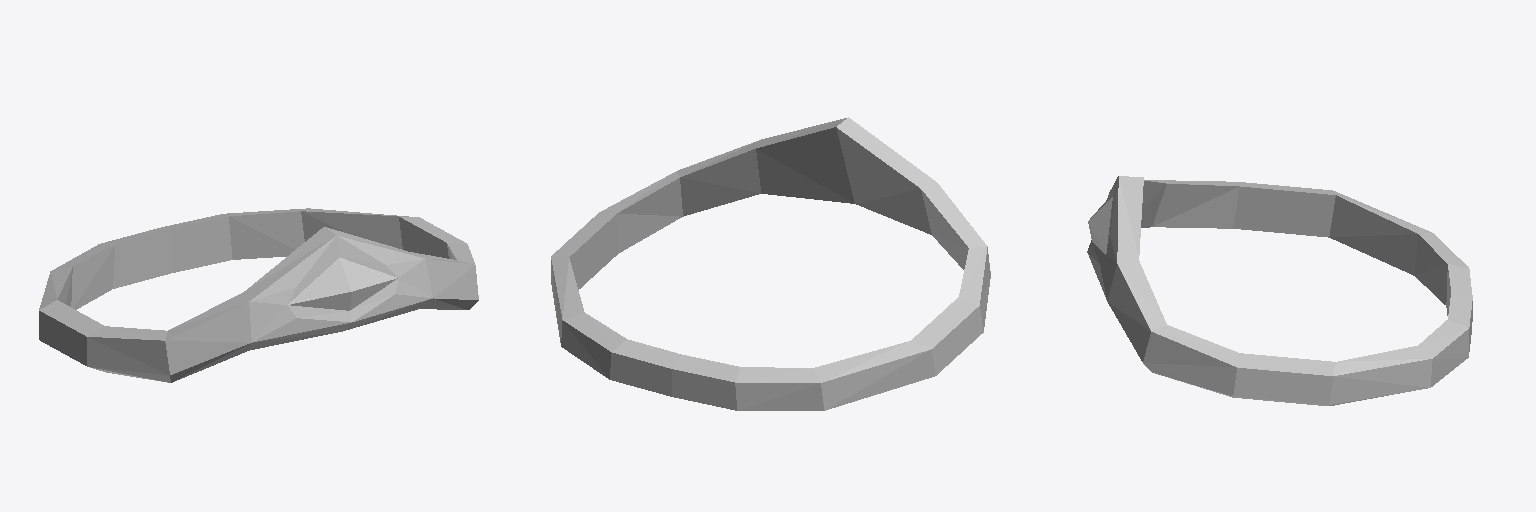
File: SM_Chr_Attach_Princess_Tiara_01.obj
3 views of the same model, side by side, from view 1: azimuth 30°, elevation 25°; view 2: azimuth 150°, elevation 25°; view 3: azimuth 270°, elevation 25° (orthographic).
Parts seen in each view (by area): view 1: SM_Chr_Attach_Princess_Tiara_01; view 2: SM_Chr_Attach_Princess_Tiara_01; view 3: SM_Chr_Attach_Princess_Tiara_01.
Boxes of the visible parts, box(x1,y1,x2,y2) form: SM_Chr_Attach_Princess_Tiara_01: box(39, 208, 478, 382); SM_Chr_Attach_Princess_Tiara_01: box(551, 117, 990, 410); SM_Chr_Attach_Princess_Tiara_01: box(1087, 176, 1472, 405).
Bounding box in the file's own units: 20.55 × 8.14 × 17.84.